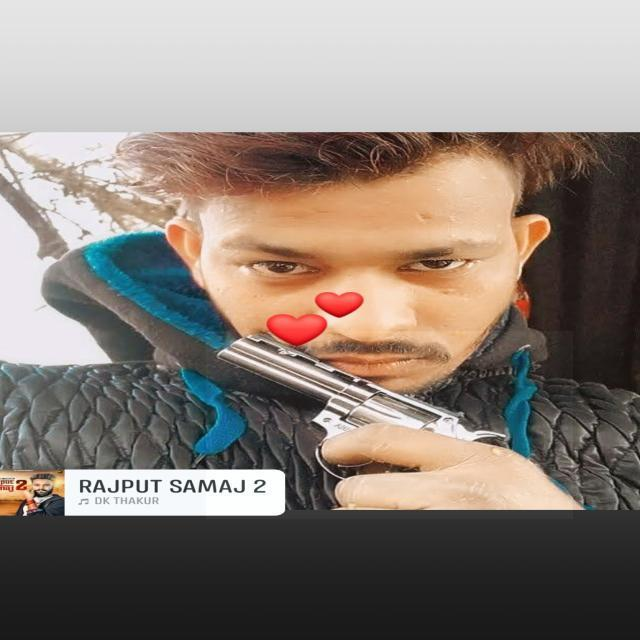handgun: (206, 331, 573, 519)
